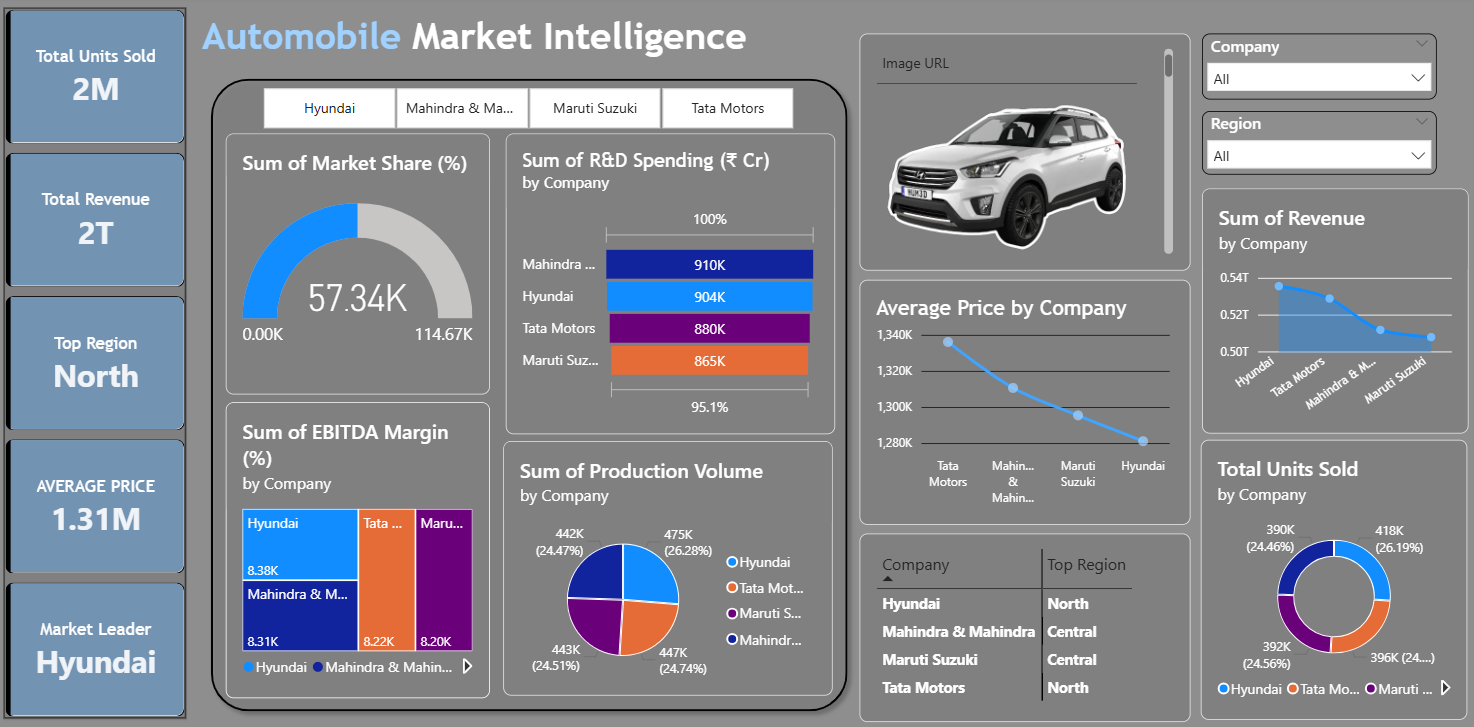

What the dashboard file says about the page in this screenshot:
{"tool":"powerbi","page":{"name":"Page 1","canvas":[1500,750],"ordinal":0},"visuals":[{"type":"tableEx","fields":{"Values":["Auto_Sales_Detailed.Image URL"]},"box":[872.1,38.2,332.5,238.5],"z":0},{"type":"textbox","box":[210.7,0,657.7,74],"z":1000},{"type":"cardVisual","fields":{"Data":["Auto_Sales_Detailed.Total Units Sold","Auto_Sales_Detailed.Total Revenue","Auto_Sales_Detailed.Top Region","Auto_Sales_Detailed.AVERAGE PRICE","Auto_Sales_Detailed.Market Leader"]},"box":[11.3,11.3,184.9,717.2],"z":2000},{"type":"shape","box":[211,74,658,654],"z":3000},{"type":"funnel","fields":{"Y":["Sum(Auto_Sales_Detailed.R&D Spending (₹ Cr))"],"Category":["Auto_Sales_Detailed.Company"]},"box":[516.2,138.3,331.3,302.3],"z":4000},{"type":"gauge","fields":{"Y":["Sum(Auto_Sales_Detailed.Market Share (%))"]},"box":[234.8,138.3,265.3,262.1],"z":5000},{"type":"treemap","fields":{"Group":["Auto_Sales_Detailed.Company"],"Values":["Sum(Auto_Sales_Detailed.EBITDA Margin (%))"]},"box":[234.8,408.4,265.3,297.5],"z":6000},{"type":"pieChart","fields":{"Y":["Sum(Auto_Sales_Detailed.Production Volume)"],"Category":["Auto_Sales_Detailed.Company"]},"box":[514.6,447,331.3,255.7],"z":7000},{"type":"lineChart","title":"Average Price by Company","fields":{"Category":["Auto_Sales_Detailed.Company"],"Y":["Auto_Sales_Detailed.AVERAGE PRICE"]},"box":[872.1,284.8,332.5,246.6],"z":8000},{"type":"donutChart","fields":{"Y":["Auto_Sales_Detailed.Total Units Sold"],"Category":["Auto_Sales_Detailed.Company"]},"box":[1215,446.7,268.3,281.7],"z":9000},{"type":"areaChart","fields":{"Category":["Auto_Sales_Detailed.Company"],"Y":["Sum(Auto_Sales_Detailed.Revenue)"]},"box":[1216,194,268,246],"z":10000},{"type":"slicer","fields":{"Values":["Auto_Sales_Detailed.Company"]},"box":[1216,38,236,66],"z":11000},{"type":"slicer","fields":{"Values":["Auto_Sales_Detailed.Region"]},"box":[1216,116,236,64],"z":12000},{"type":"slicer","fields":{"Values":["Auto_Sales_Detailed.Company"]},"box":[252,90,572,44],"z":13000},{"type":"tableEx","fields":{"Values":["Auto_Sales_Detailed.Company","Auto_Sales_Detailed.Top Region"]},"box":[872.1,541,332.5,189.4],"z":14000}]}

Visuals, with their boxes in screenshot pixels (x1, y1, x2, y2), scaled from the page's 1500x750 canvas onto the 1474x727 screenshot:
tableEx - Auto_Sales_Detailed.Image URL: box(857, 37, 1184, 268)
textbox: box(207, 0, 853, 72)
cardVisual - Auto_Sales_Detailed.Total Units Sold x Auto_Sales_Detailed.Total Revenue: box(11, 11, 193, 706)
shape: box(207, 72, 854, 706)
funnel - Sum(Auto_Sales_Detailed.R&D Spending (₹ Cr)) x Auto_Sales_Detailed.Company: box(507, 134, 833, 427)
gauge - Sum(Auto_Sales_Detailed.Market Share (%)): box(231, 134, 491, 388)
treemap - Auto_Sales_Detailed.Company x Sum(Auto_Sales_Detailed.EBITDA Margin (%)): box(231, 396, 491, 684)
pieChart - Sum(Auto_Sales_Detailed.Production Volume) x Auto_Sales_Detailed.Company: box(506, 433, 831, 681)
"Average Price by Company" lineChart: box(857, 276, 1184, 515)
donutChart - Auto_Sales_Detailed.Total Units Sold x Auto_Sales_Detailed.Company: box(1194, 433, 1458, 706)
areaChart - Auto_Sales_Detailed.Company x Sum(Auto_Sales_Detailed.Revenue): box(1195, 188, 1458, 427)
slicer - Auto_Sales_Detailed.Company: box(1195, 37, 1427, 101)
slicer - Auto_Sales_Detailed.Region: box(1195, 112, 1427, 174)
slicer - Auto_Sales_Detailed.Company: box(248, 87, 810, 130)
tableEx - Auto_Sales_Detailed.Company x Auto_Sales_Detailed.Top Region: box(857, 524, 1184, 708)
